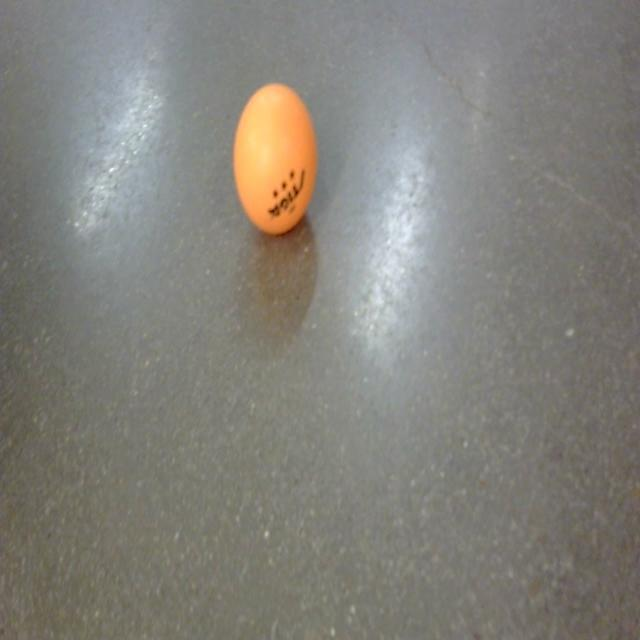ball: (231, 80, 320, 236)
